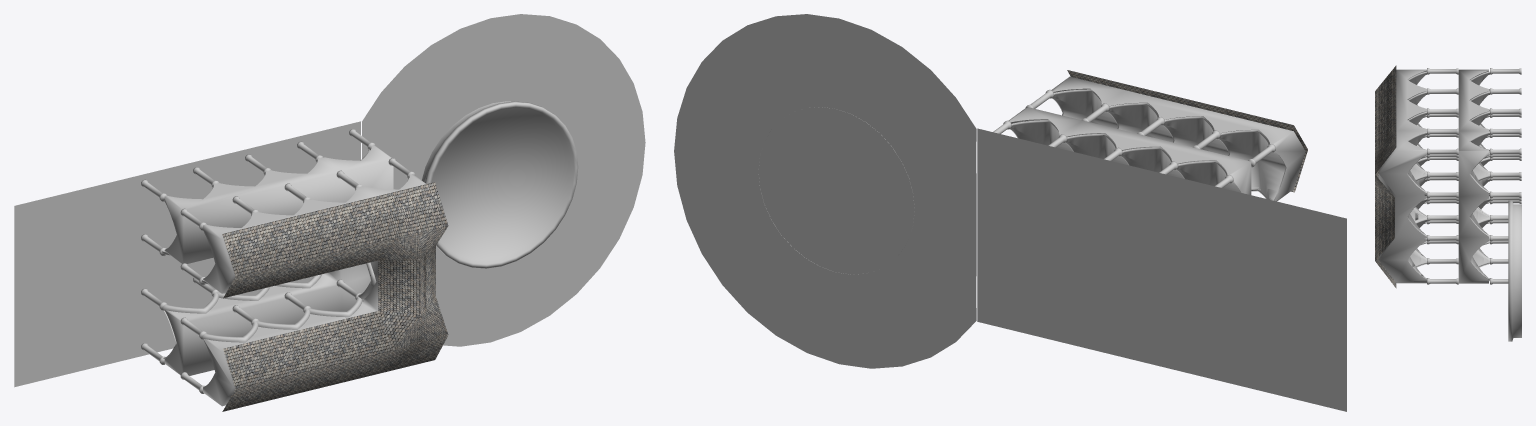
Rendered from td_courtyard.fbx.
3 renders of one model, left to right at view 1: azimuth 30°, elevation 25°; view 2: azimuth 150°, elevation 25°; view 3: azimuth 270°, elevation 25°, orthographic. The views are drawn at different scales.
Visible parts, largest first — view 1: Cylinder_014, Plane, Roof, Plane_001, Cylinder_013, Cylinder, Cylinder_002, Cylinder_008; view 2: Cylinder_014, Plane, Plane_001, Cylinder_002, Cylinder_008, Cylinder, Roof; view 3: Plane_001, Cylinder, Roof, Cylinder_013, Cylinder_008, Cylinder_002.
Boxes of the visible parts, box(x1,y1,x2,y2) form: Cylinder_014: box(362, 14, 645, 346); Plane: box(14, 121, 360, 387); Roof: box(222, 182, 448, 411); Plane_001: box(164, 145, 426, 406); Cylinder_013: box(421, 101, 578, 268); Cylinder: box(141, 129, 415, 393); Cylinder_002: box(202, 176, 409, 387); Cylinder_008: box(162, 147, 370, 358); Cylinder_014: box(674, 14, 976, 368); Plane: box(977, 128, 1346, 411); Plane_001: box(1008, 76, 1305, 201); Cylinder_002: box(1052, 89, 1285, 200); Cylinder_008: box(1010, 120, 1240, 192); Cylinder: box(993, 89, 1275, 187); Roof: box(1067, 70, 1307, 192); Plane_001: box(1378, 69, 1488, 283); Cylinder: box(1427, 68, 1521, 284); Roof: box(1375, 65, 1396, 288); Cylinder_013: box(1508, 200, 1521, 341); Cylinder_008: box(1469, 71, 1489, 281); Cylinder_002: box(1407, 71, 1427, 279).
Bounding box in the file's own units: 72.81 × 35.74 × 18.48.
